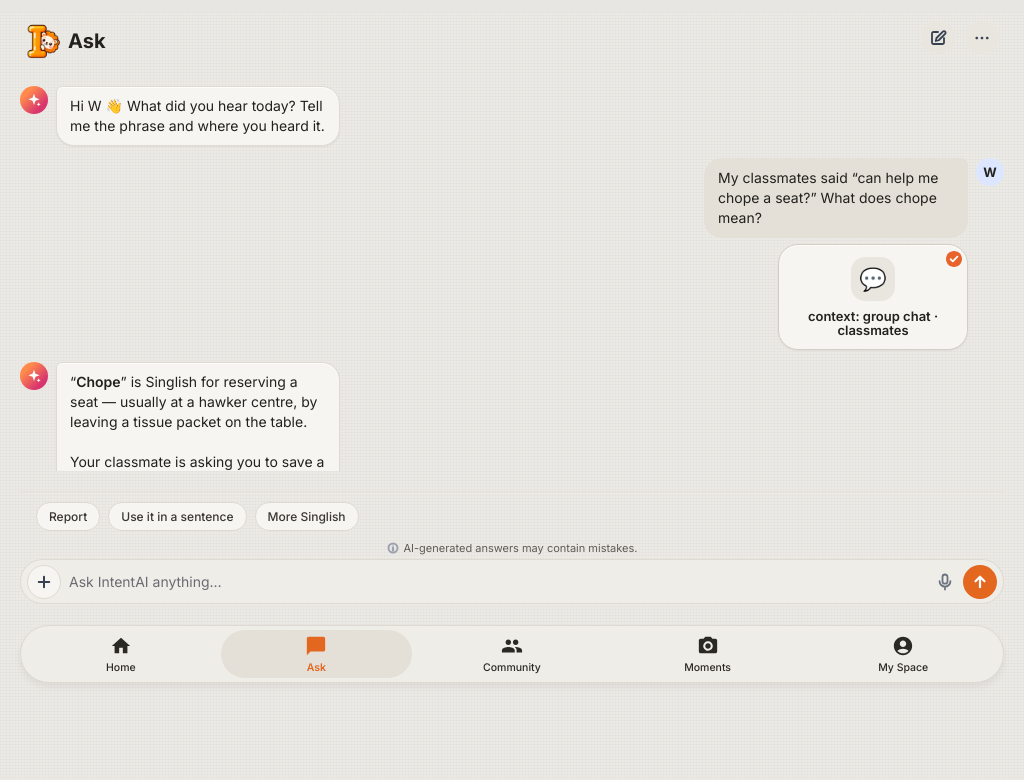
Test: voice input fills the box when speech recognition exists, otherwise shows a toast
The width and height of the screenshot is (1024, 780).
Click the button named "Voice input" at [945, 582], box [935,572,955,592]
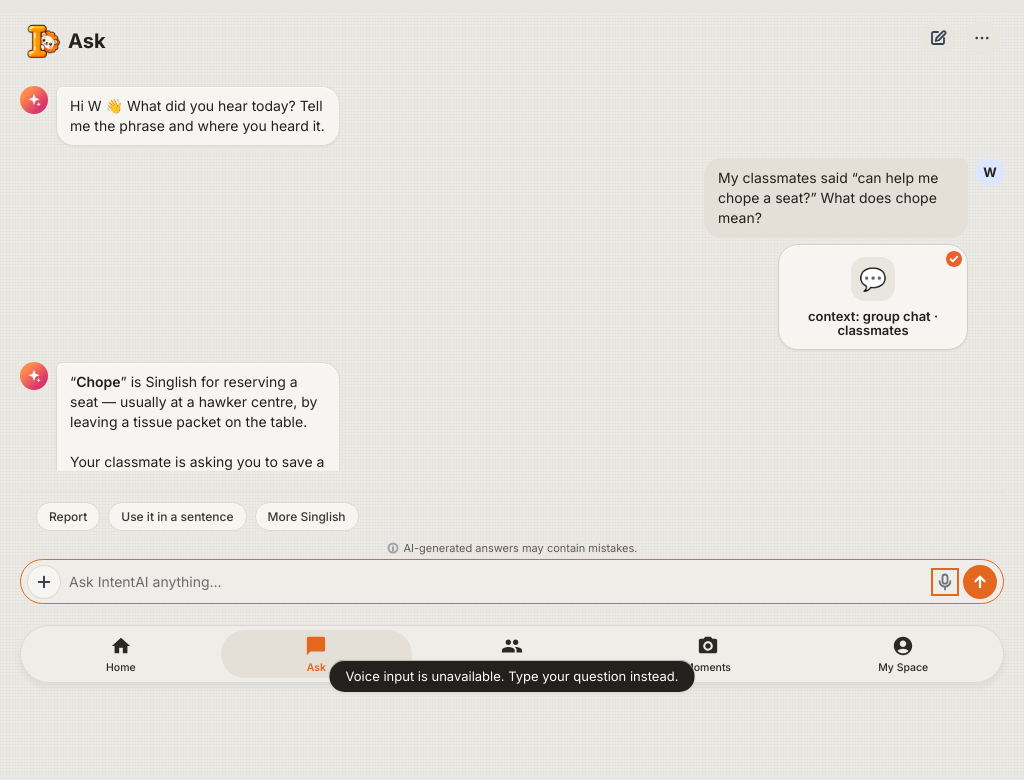
Expected: the message reads "Voice input is unavailable. Type your question instead.", [346,668,678,684]
Click the button named "Voice input" at [945, 582], box [935,572,955,592]
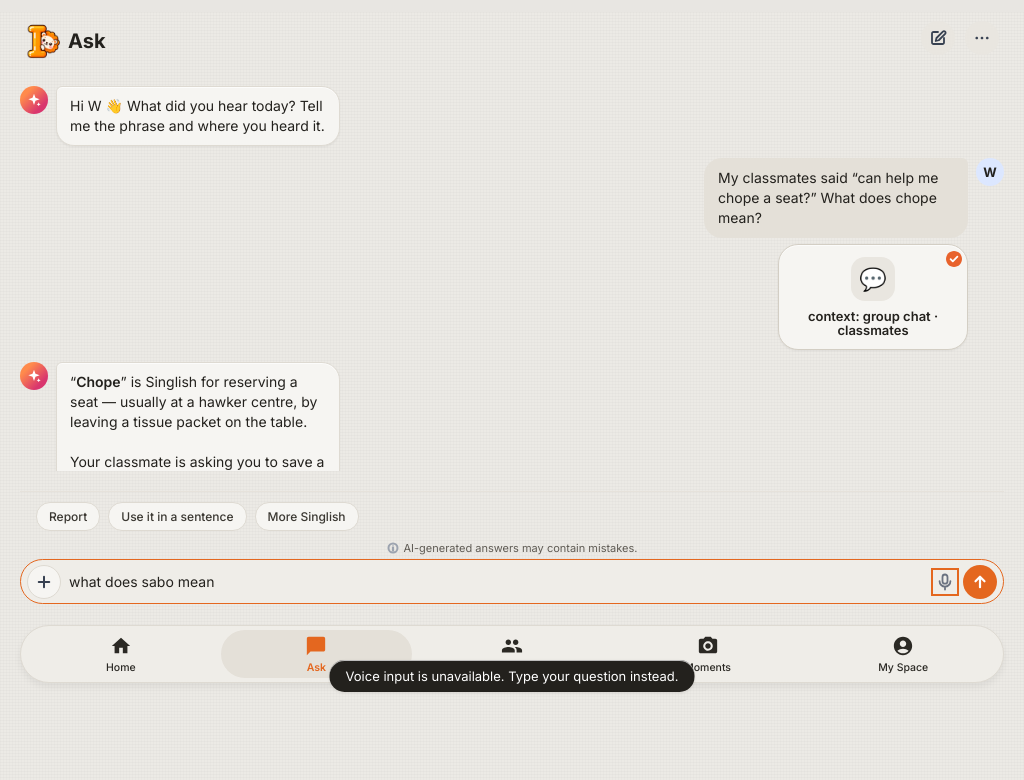
Expected: the field named "Ask IntentAI" holds "what does sabo mean", [69,560,927,603]
